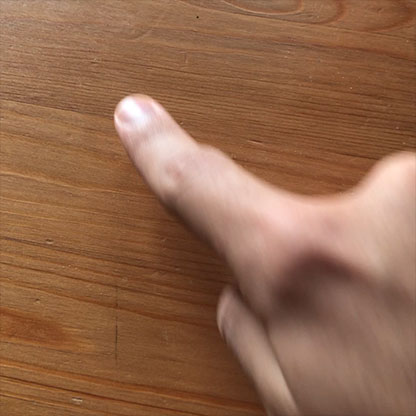fingertip: (107, 86, 171, 143)
